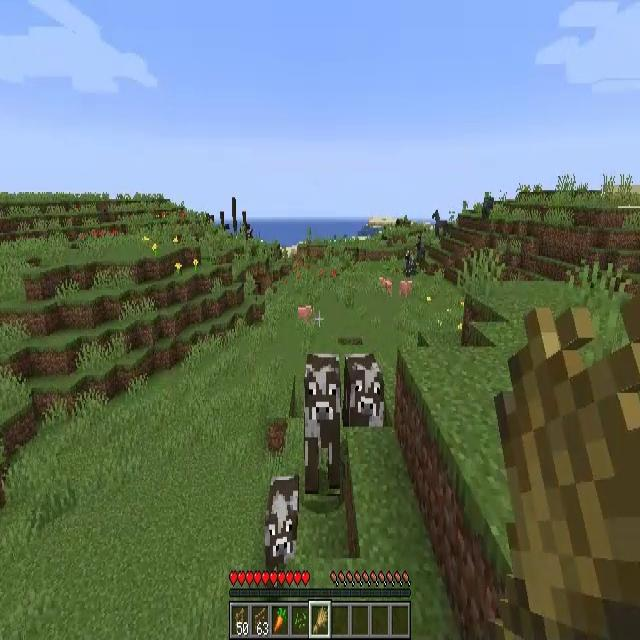cow: (305, 354, 340, 494), (344, 350, 382, 430), (266, 473, 299, 563)
flower: (174, 262, 182, 276), (153, 242, 158, 257), (193, 258, 198, 271), (173, 236, 178, 247)
pig: (379, 276, 393, 292), (298, 305, 313, 319), (400, 279, 412, 296)
